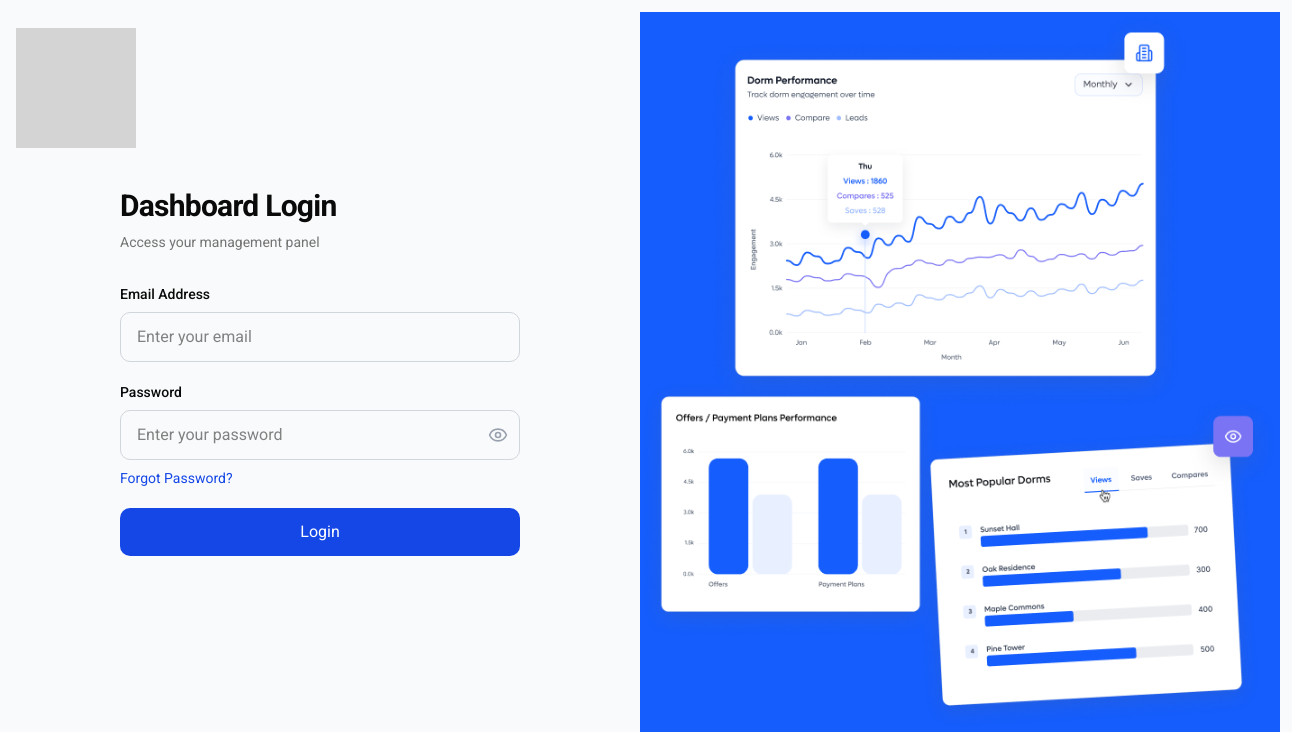
Test: Login Form › shows validation errors when submitting empty form
Click the button "Login": [320, 532] box [120,508,520,556]
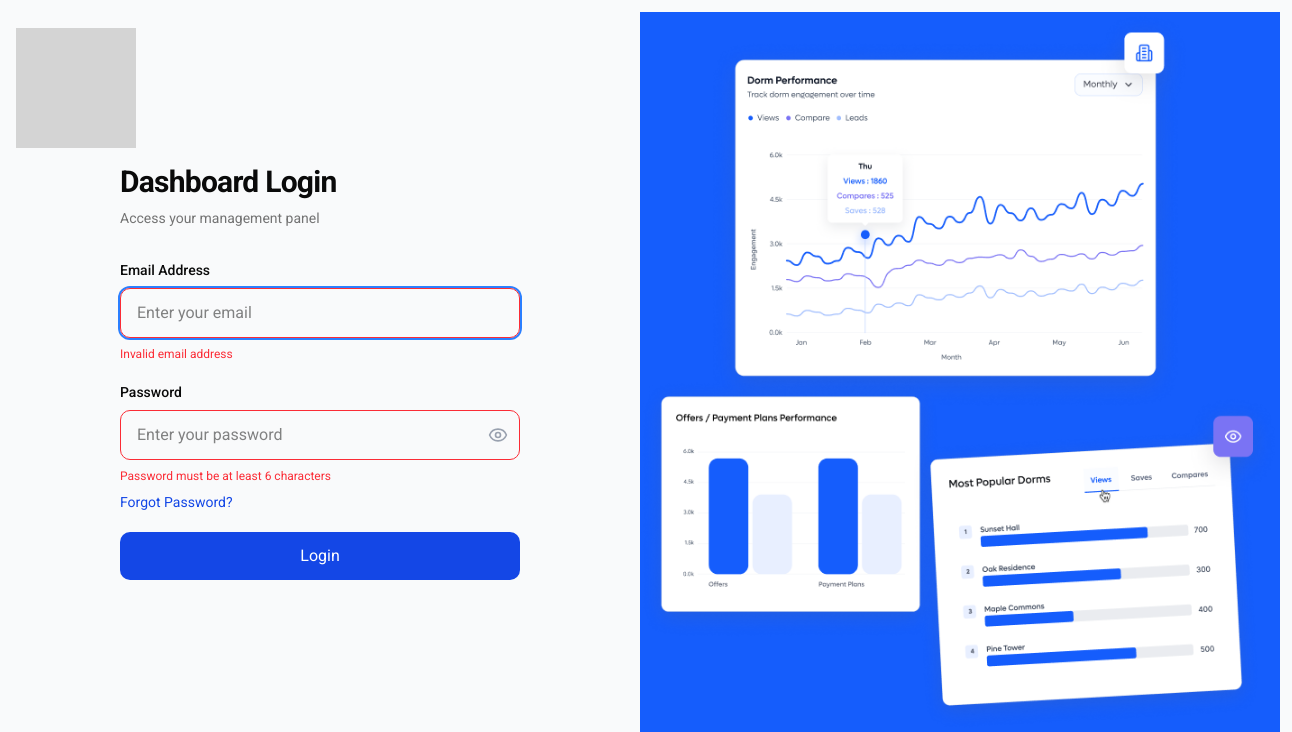
Check: the text "Invalid email address" is shown, box [120,347,233,361]
Check: the text "Password must be at least 6 characters" is shown, box [120,469,331,483]
